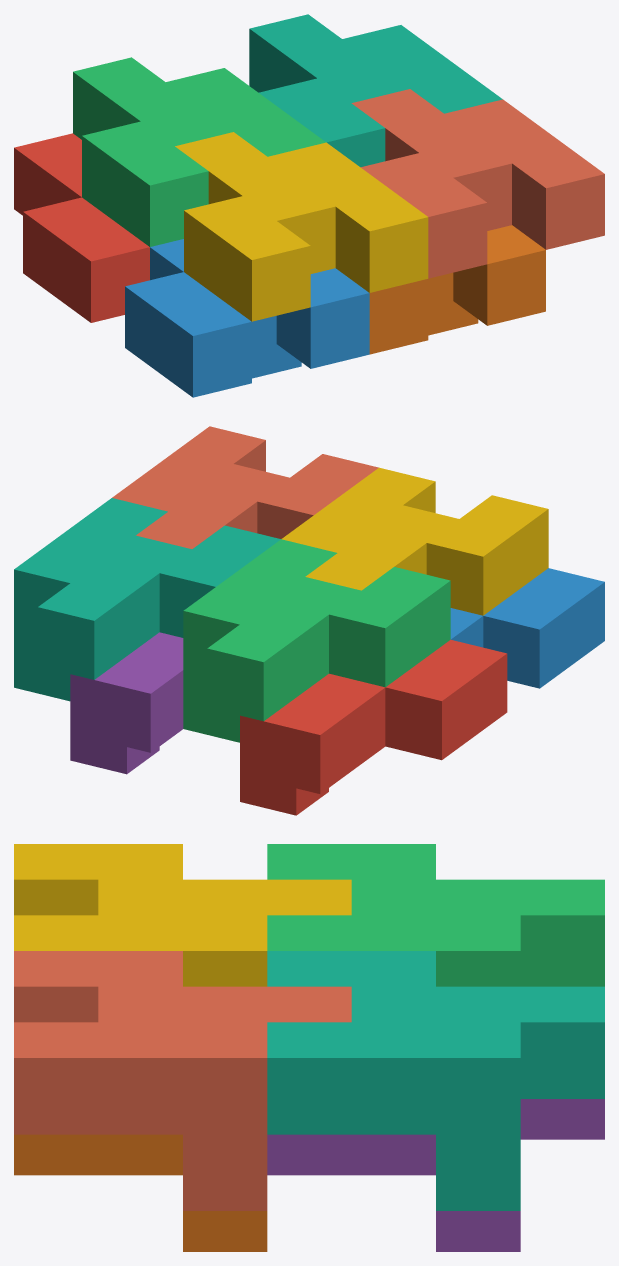
Rendered from tiling.obj.
3 renders of one model, top to bottom at view 1: azimuth 30°, elevation 25°; view 2: azimuth 150°, elevation 25°; view 3: azimuth 270°, elevation 25°, orthographic. The views are drawn at different scales.
Visible parts, largest first — view 1: copy_1_domain_4, copy_1_domain_8, copy_1_domain_3, copy_1_domain_2, copy_1_domain_7, copy_1_domain_1, copy_1_domain_6; view 2: copy_1_domain_3, copy_1_domain_7, copy_1_domain_1, copy_1_domain_4, copy_1_domain_8, copy_1_domain_5, copy_1_domain_2; view 3: copy_1_domain_7, copy_1_domain_8, copy_1_domain_3, copy_1_domain_4, copy_1_domain_5, copy_1_domain_6.
Boxes of the visible parts, x1,y1,x2,y2 form: copy_1_domain_4: [175, 132, 428, 321]; copy_1_domain_8: [351, 89, 604, 278]; copy_1_domain_3: [73, 57, 325, 246]; copy_1_domain_2: [125, 239, 369, 397]; copy_1_domain_7: [249, 14, 502, 167]; copy_1_domain_1: [14, 133, 149, 322]; copy_1_domain_6: [369, 225, 545, 354]; copy_1_domain_3: [183, 539, 450, 742]; copy_1_domain_7: [14, 498, 280, 701]; copy_1_domain_1: [240, 639, 507, 815]; copy_1_domain_4: [281, 467, 548, 615]; copy_1_domain_8: [112, 426, 378, 548]; copy_1_domain_5: [70, 632, 183, 774]; copy_1_domain_2: [450, 568, 604, 688]; copy_1_domain_7: [267, 951, 604, 1210]; copy_1_domain_8: [14, 951, 351, 1210]; copy_1_domain_3: [267, 844, 604, 986]; copy_1_domain_4: [14, 844, 351, 986]; copy_1_domain_5: [267, 1099, 604, 1251]; copy_1_domain_6: [14, 1134, 267, 1251].
Size of the model in its own units: 7 by 3 by 7.
